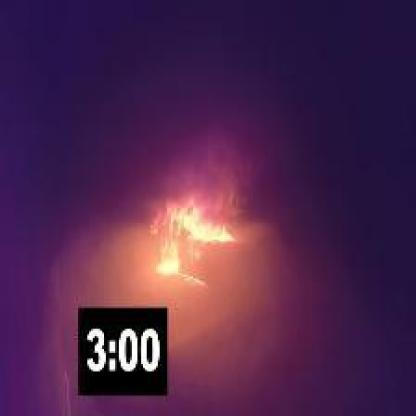fire: (140, 195, 236, 289)
